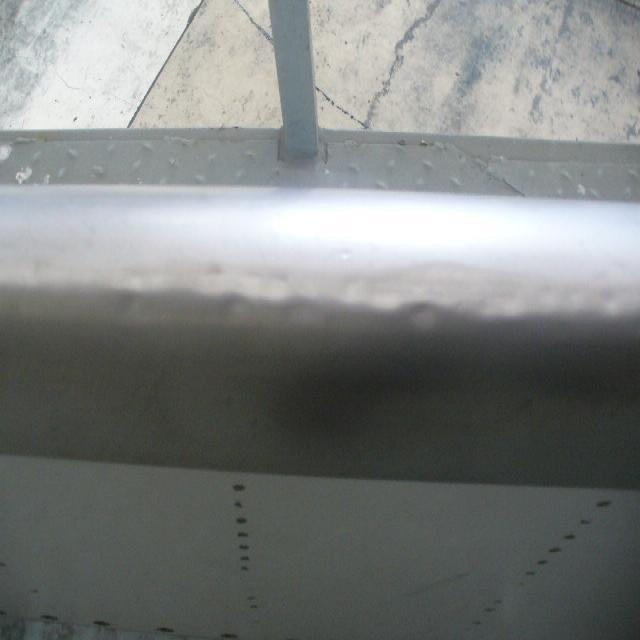dent: (206, 260, 326, 344), (371, 261, 525, 319), (531, 281, 627, 323), (99, 272, 165, 328), (404, 290, 444, 342)
